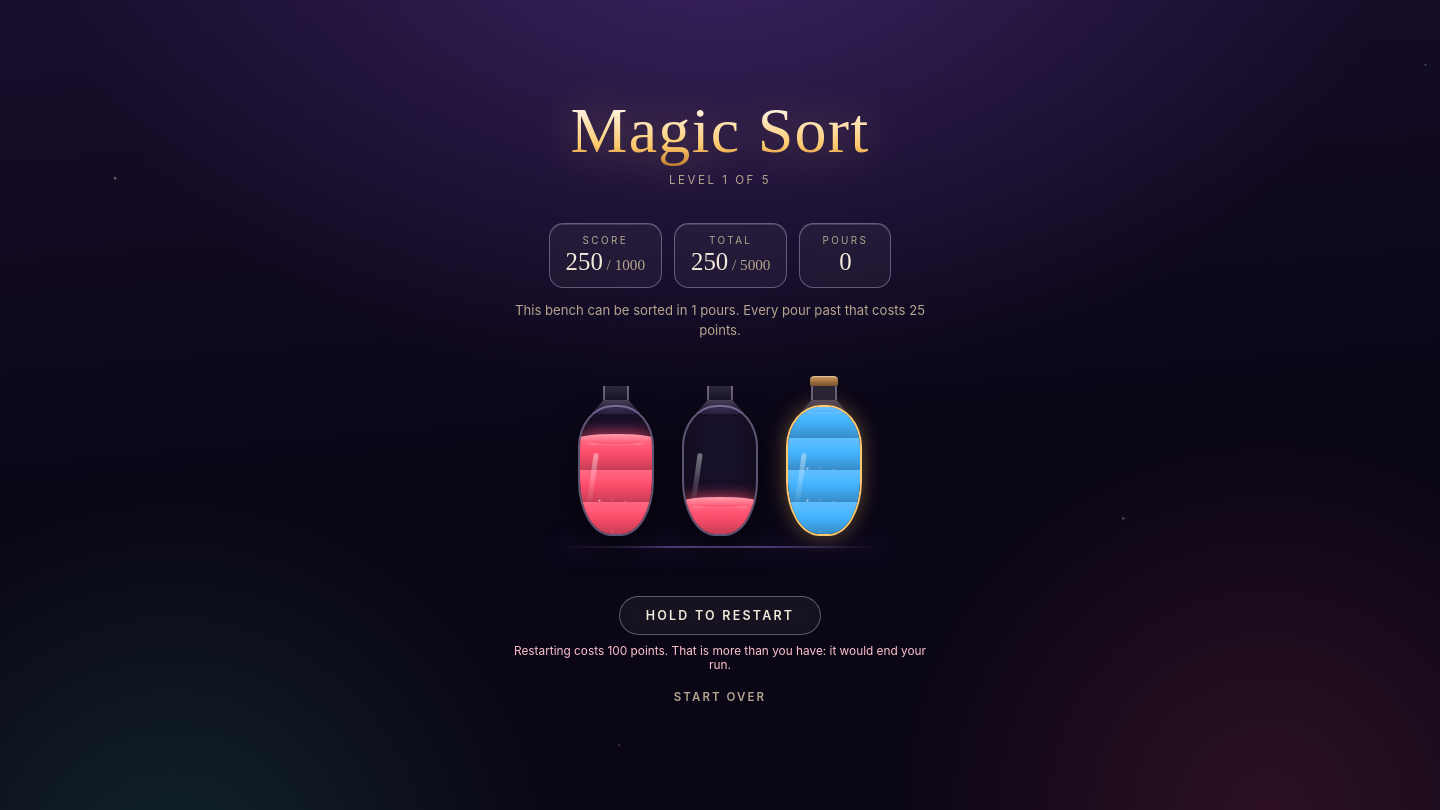
Test case: Game › pays a flawless run the full 1000
The image size is (1440, 810).
Click the button named "Flask 2, a 4-layer flask holding crimson from bottom to top". click: (720, 456)
box: x1=682 y1=376 x2=758 y2=536
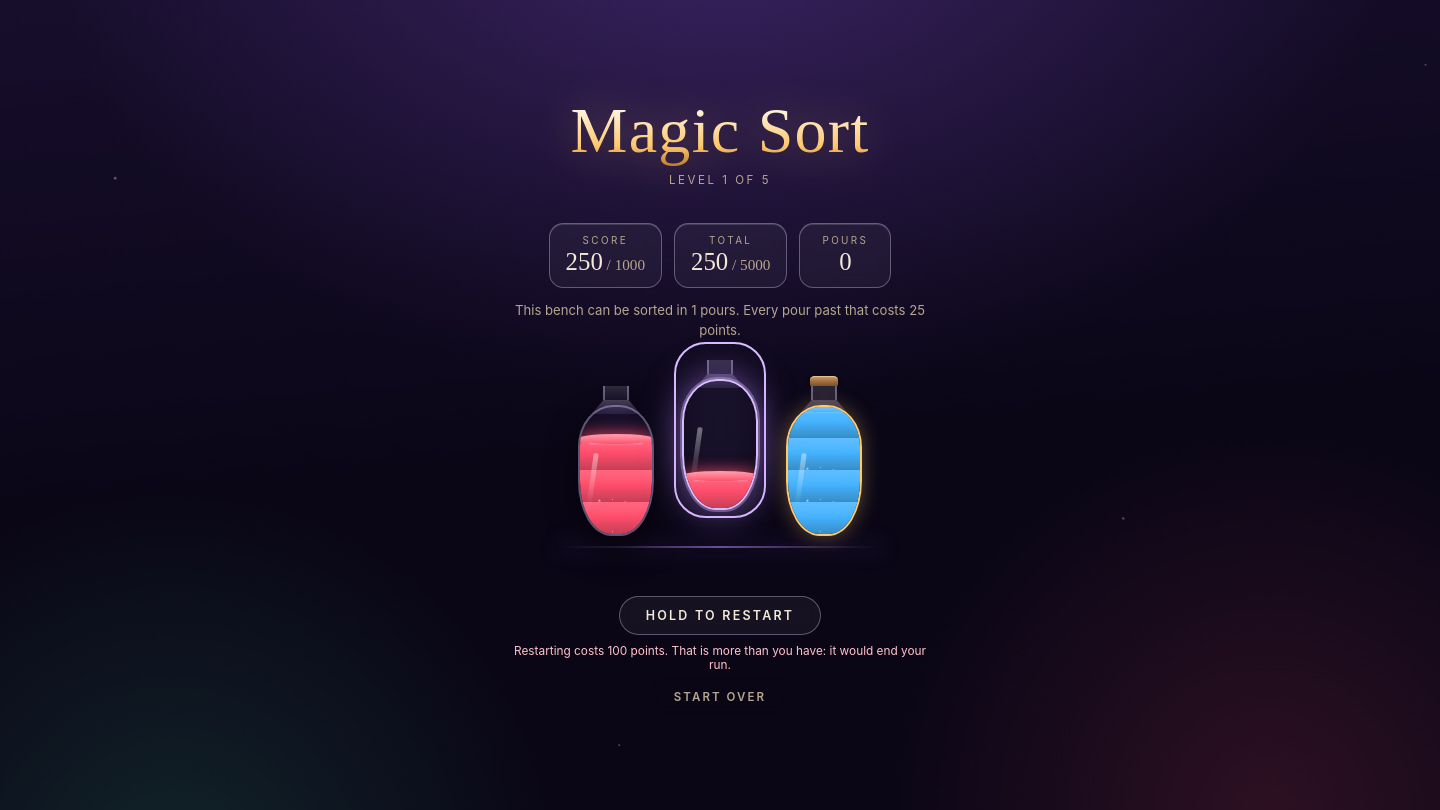
Click the button named "Flask 1, a 4-layer flask holding crimson, crimson, crimson f". click: (616, 456)
box: x1=578 y1=376 x2=654 y2=536
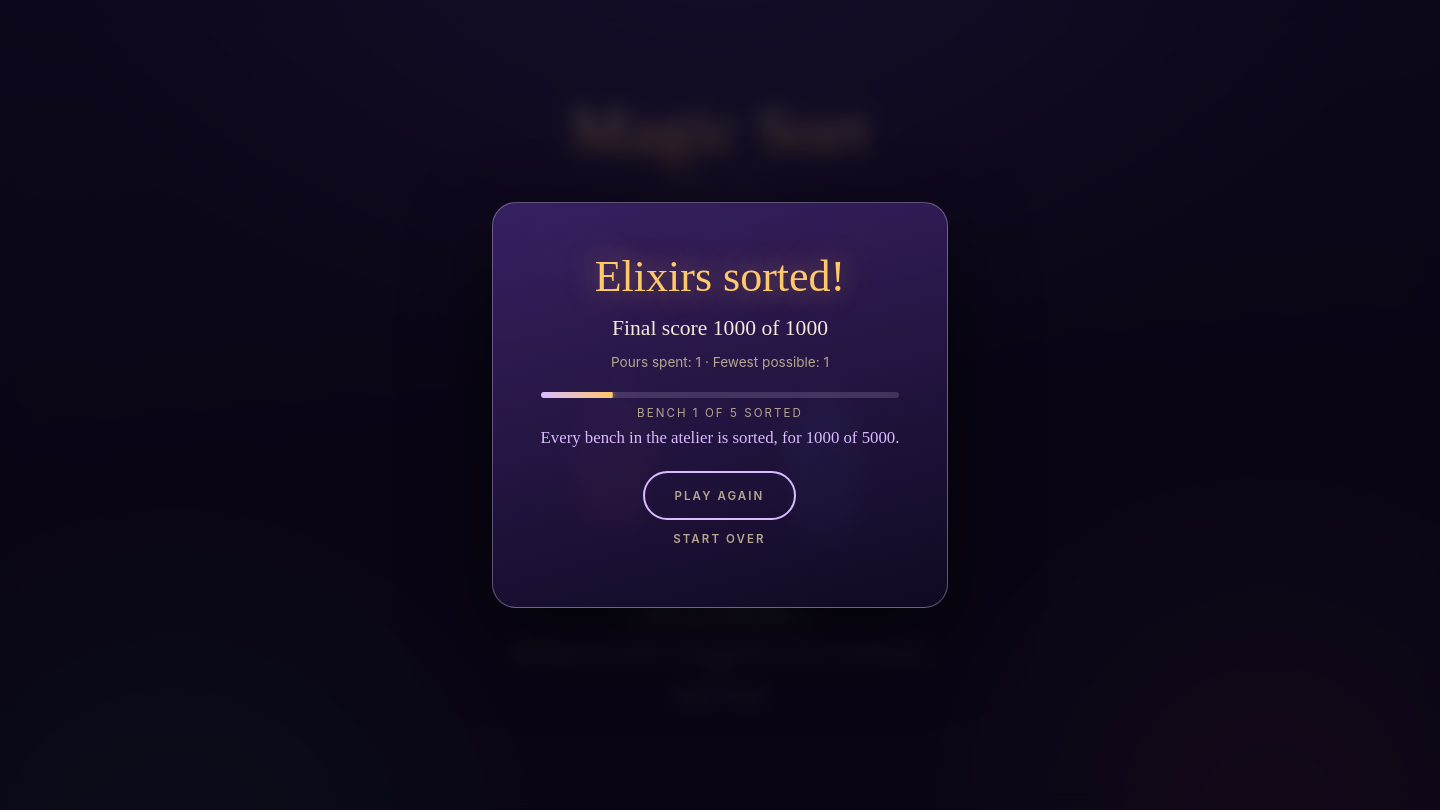
Result: the element named "Score" reads "1000 / 1000" at x1=553 y1=248 x2=645 y2=276
